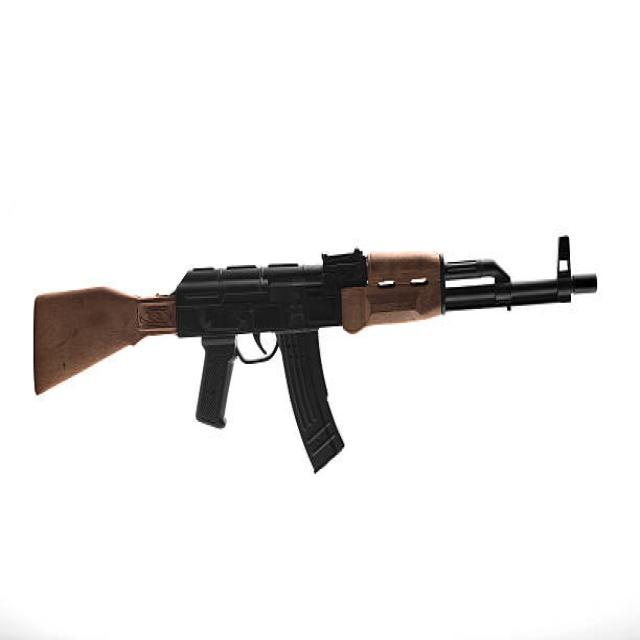rifle: (28, 221, 605, 479)
